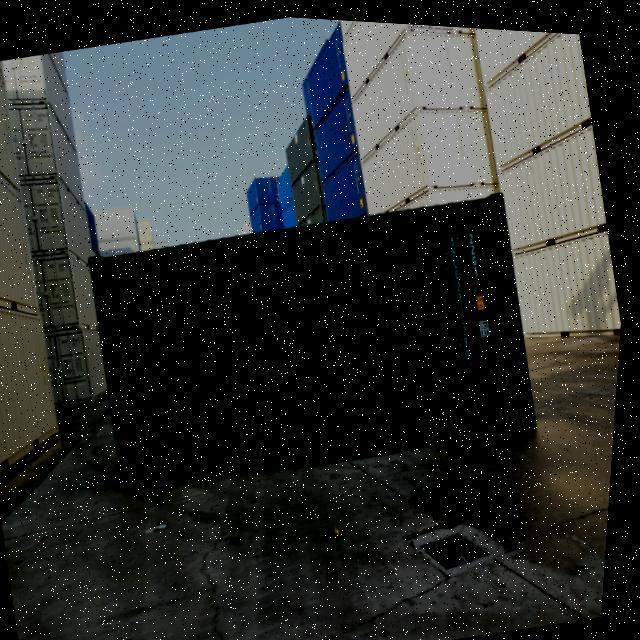container_number_v: (436, 222, 491, 367)
